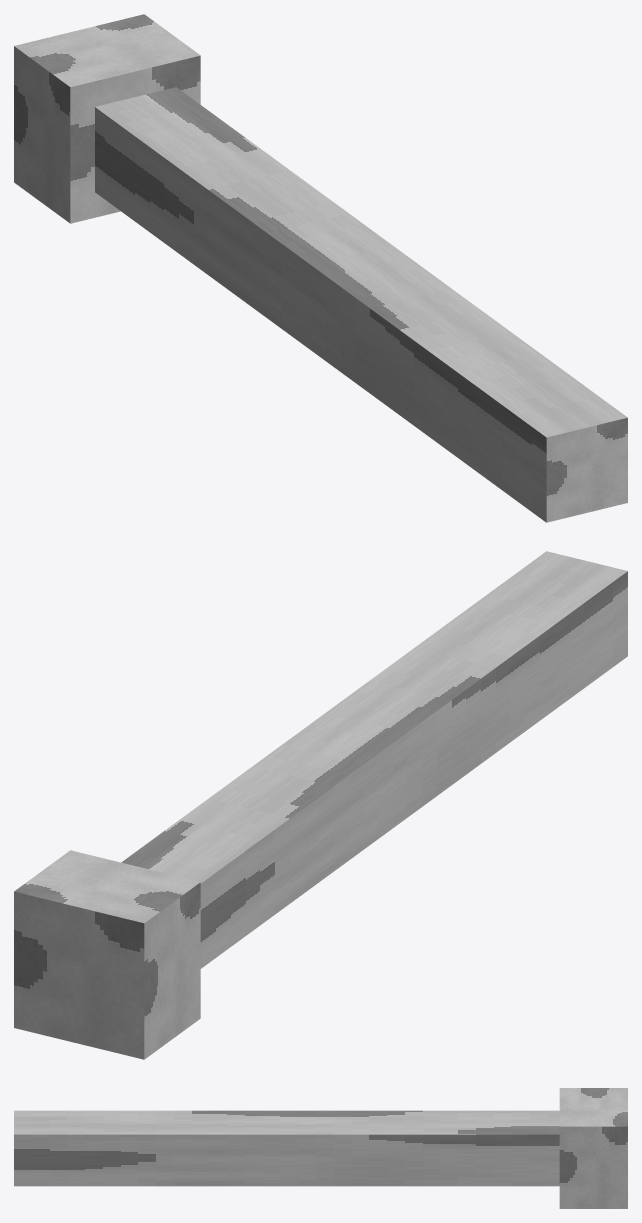
Rendered from revolver4_rod.obj.
3 views of the same model, one above another, from view 1: azimuth 30°, elevation 25°; view 2: azimuth 150°, elevation 25°; view 3: azimuth 270°, elevation 25° (orthographic). The views are drawn at different scales.
Parts seen in each view (by area): view 1: part0, part1; view 2: part0, part1; view 3: part0, part1.
Part boxes in pixels (x1,y1,x2,y2): part0: [95, 87, 627, 522]; part1: [14, 14, 200, 223]; part0: [121, 551, 627, 968]; part1: [14, 850, 200, 1059]; part0: [14, 1110, 559, 1186]; part1: [559, 1088, 627, 1208].
Size of the model in its own units: 0.008 by 0.008 by 0.054.
2 materials, 2 textured.
